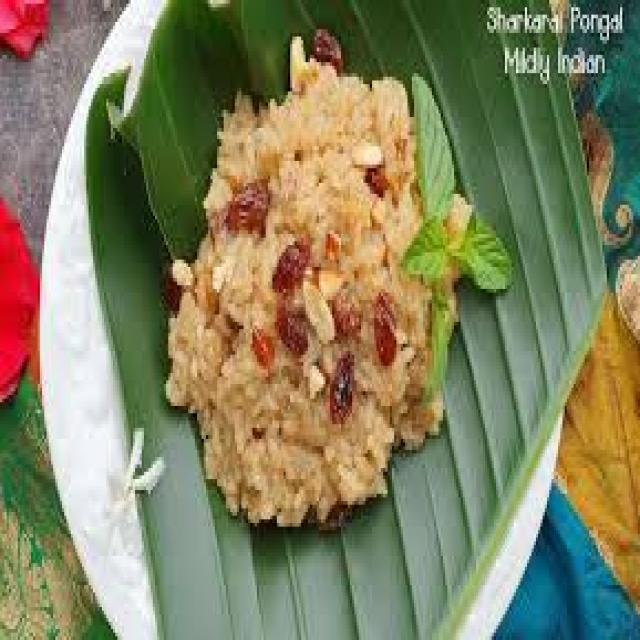PONGAL: (166, 39, 451, 526)
